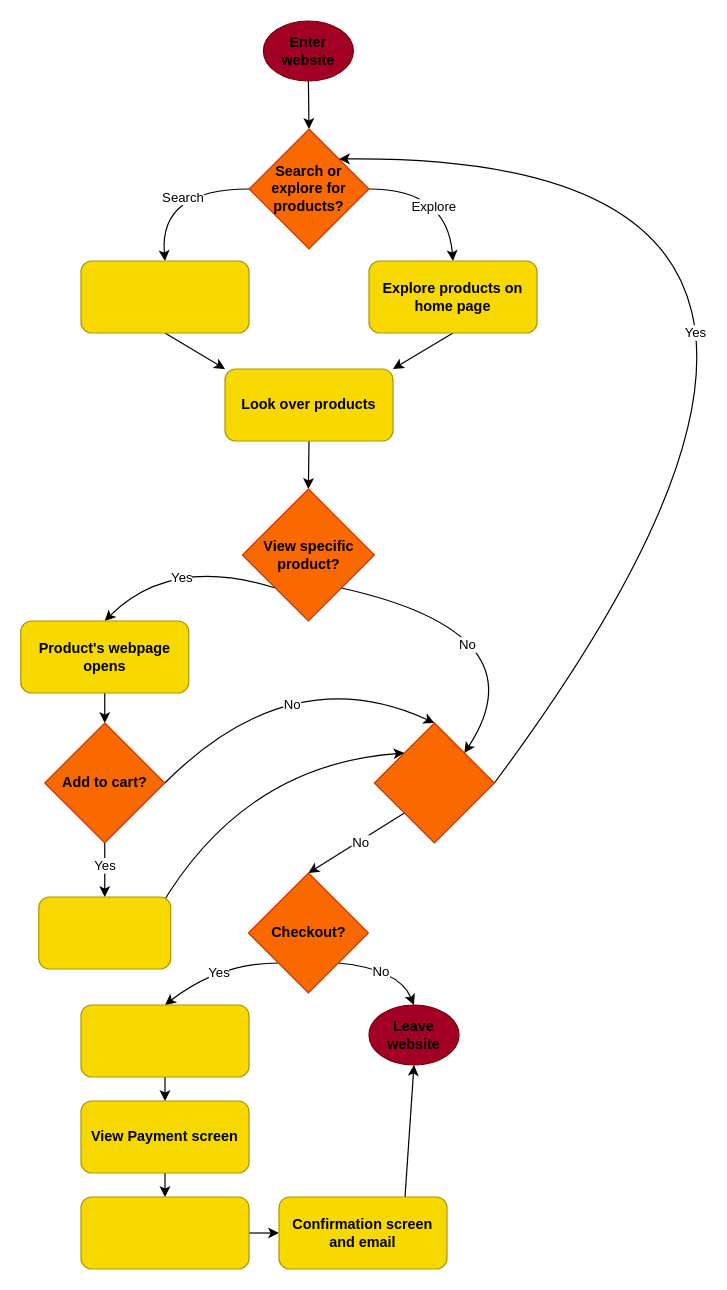
The diagram is 727 pixels wide and 1290 high, and some of its shapes have lost their labels. The shapes that lost their labels are listed below. From the top down, each one's centre as x and y in pixels, then its label:
At (x=164, y=296): "Enter product name".
At (x=433, y=782): "Continue shopping?".
At (x=104, y=932): "Added to cart confirmation".
At (x=164, y=1040): "View Cart screen".
At (x=164, y=1232): "Input payment information".
